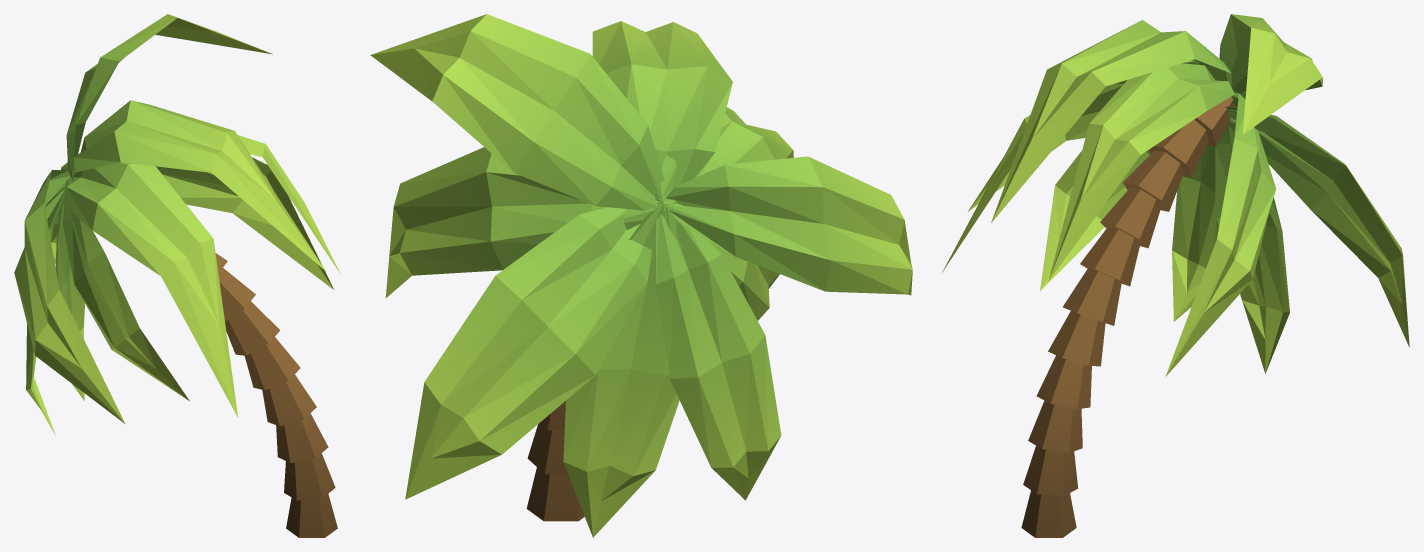
Rendered from Palm3.FBX.
3 views of the same model, side by side, from view 1: azimuth 30°, elevation 25°; view 2: azimuth 150°, elevation 25°; view 3: azimuth 270°, elevation 25° (orthographic). The views are drawn at different scales.
Parts seen in each view (by area): view 1: Palm3; view 2: Palm3; view 3: Palm3.
Part boxes in pixels (bbox=[...]): Palm3: bbox=[14, 14, 340, 537]; Palm3: bbox=[370, 14, 912, 537]; Palm3: bbox=[941, 14, 1409, 537].
Bounding box in the file's own units: 348 × 431 × 381.
